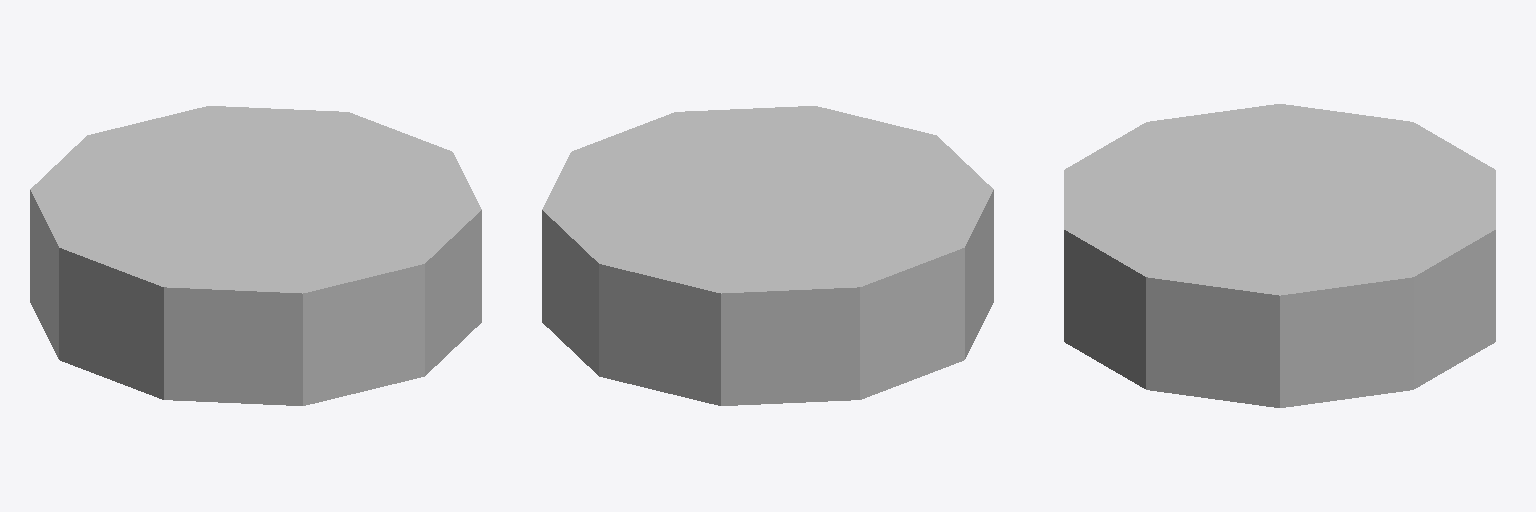
Rendered from Puck2.obj.
3 views of the same model, side by side, from view 1: azimuth 30°, elevation 25°; view 2: azimuth 150°, elevation 25°; view 3: azimuth 270°, elevation 25° (orthographic).
Visible parts, largest first — view 1: RoadKillOut initialShadingGroup initialShadingGroup1 polySurface; view 2: RoadKillOut initialShadingGroup initialShadingGroup1 polySurface; view 3: RoadKillOut initialShadingGroup initialShadingGroup1 polySurface.
Part boxes in pixels (x1,y1,x2,y2): RoadKillOut initialShadingGroup initialShadingGroup1 polySurface: (30,106,481,405); RoadKillOut initialShadingGroup initialShadingGroup1 polySurface: (542,106,993,405); RoadKillOut initialShadingGroup initialShadingGroup1 polySurface: (1064,104,1495,407).
Size of the model in its own units: 0.076 by 0.0208 by 0.0723.